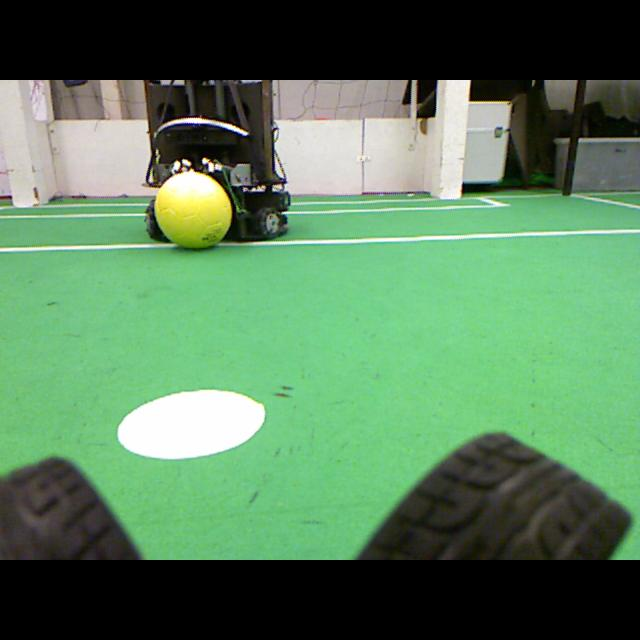ball: (155, 174, 231, 248)
goal: (0, 80, 38, 207), (440, 80, 470, 199)
robot: (141, 80, 291, 243)
